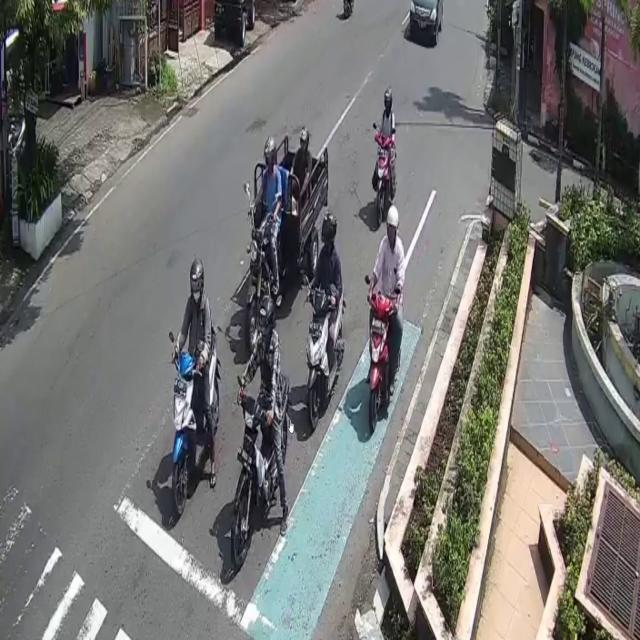bus: (230, 374, 291, 563), (173, 321, 220, 523), (307, 282, 344, 432), (366, 286, 396, 428), (246, 223, 277, 350), (374, 133, 394, 224)
